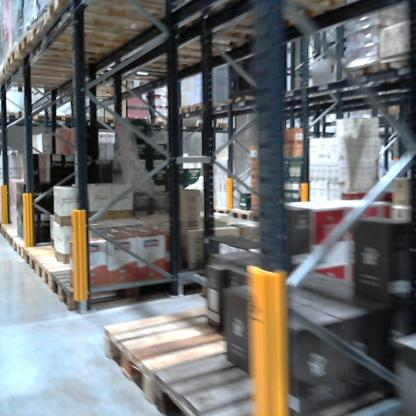pallet: (94, 282, 266, 404), (150, 342, 413, 413), (50, 261, 187, 317), (22, 5, 148, 53), (15, 26, 131, 66), (5, 46, 122, 82), (26, 243, 99, 282), (35, 253, 91, 293), (337, 58, 382, 86), (375, 49, 413, 79), (11, 236, 55, 260), (24, 108, 63, 125), (192, 100, 229, 115), (230, 92, 262, 108), (5, 229, 29, 250), (150, 117, 182, 131), (0, 223, 18, 241), (231, 205, 250, 221), (1, 108, 21, 122), (178, 101, 194, 116), (207, 120, 227, 132), (102, 116, 126, 125), (211, 205, 227, 217)
